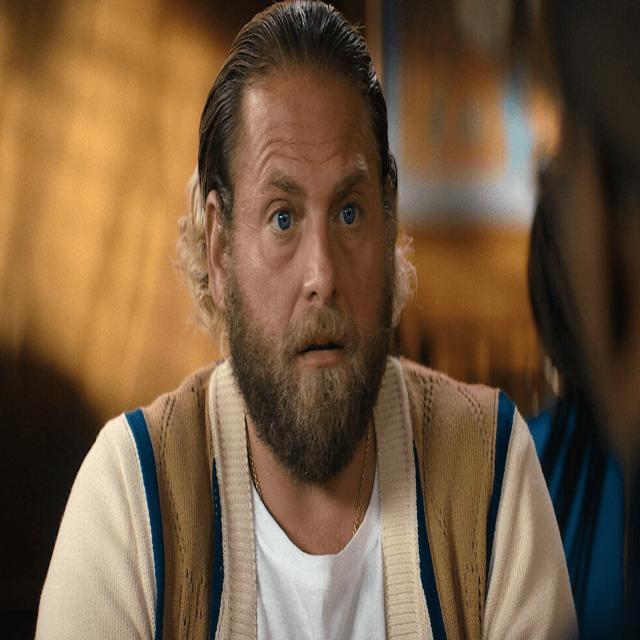adult: (39, 0, 580, 640)
